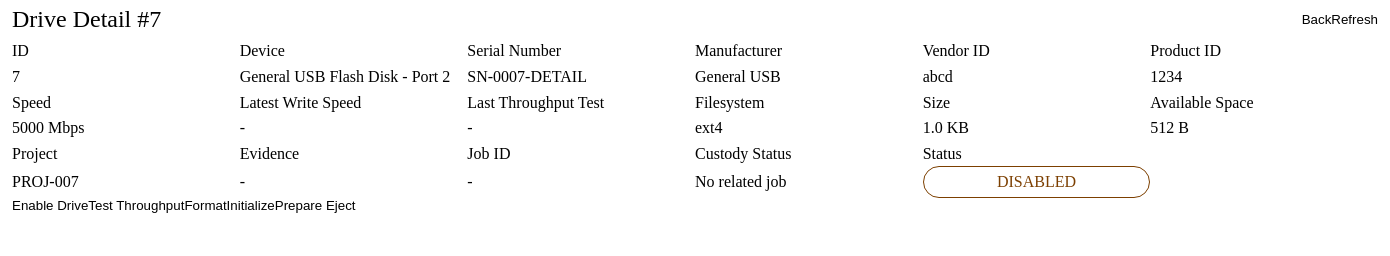
it: DriveDetailView mount workflow › keeps recovery actions consistent when enable reloads a mounted in-use drive
Click the button "Enable Drive" at (50, 206), box x1=12 y1=198 x2=88 y2=213
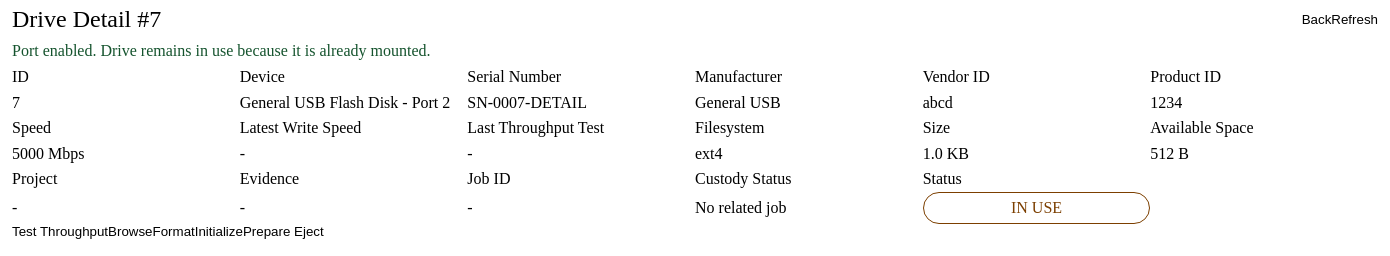
Expected: the text "Port enabled. Drive remains in use because it is already mounted." is shown, x1=12 y1=42 x2=430 y2=59
Expected: the button "Browse" is shown, x1=108 y1=224 x2=153 y2=238
Expected: the button "Prepare Eject" is enabled, x1=243 y1=224 x2=324 y2=238
